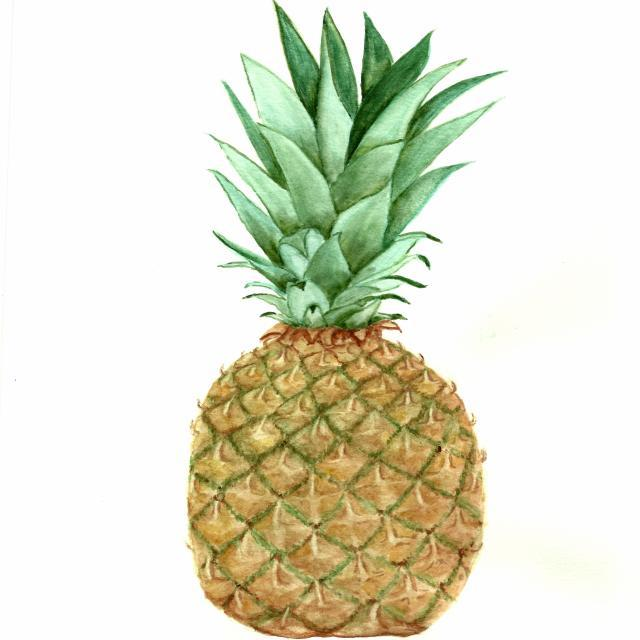PINEAPLE: (167, 25, 487, 638)
